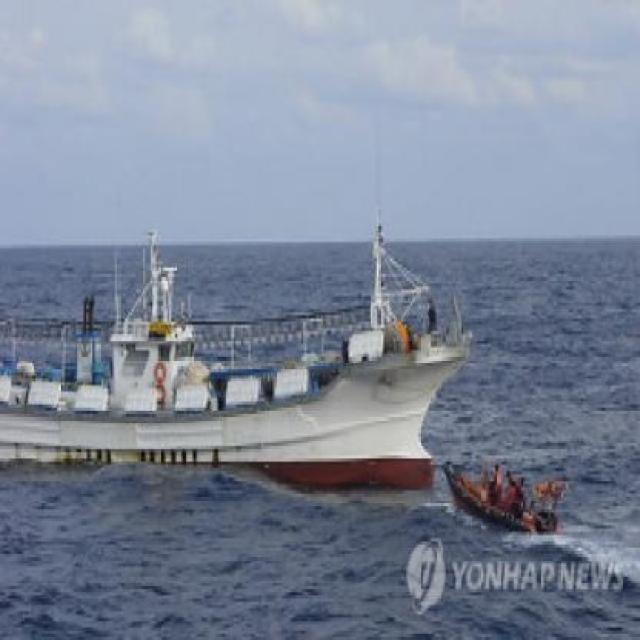fish-b: (1, 220, 483, 508)
